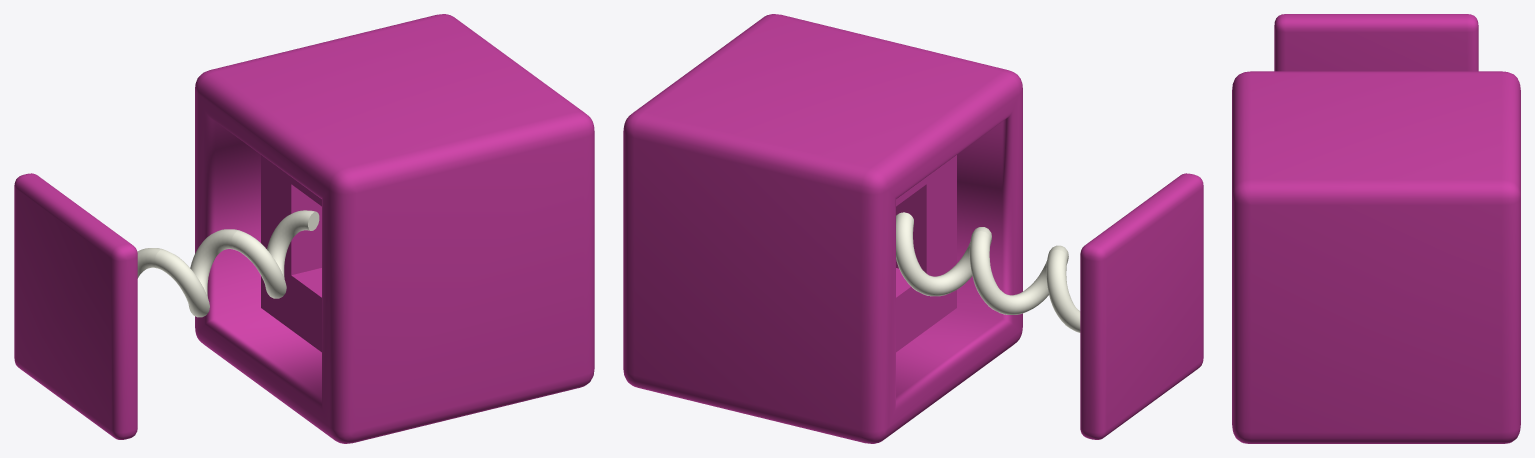
Rendered from SpringObstacle.fbx.
3 views of the same model, side by side, from view 1: azimuth 30°, elevation 25°; view 2: azimuth 150°, elevation 25°; view 3: azimuth 270°, elevation 25° (orthographic). The views are drawn at different scales.
Visible parts, largest first — view 1: FixedObstacle, MovingObstacle, Spring001; view 2: FixedObstacle, MovingObstacle, Spring001; view 3: FixedObstacle, MovingObstacle.
Boxes of the visible parts, <box> form: FixedObstacle: <box>195,14,594,443</box>; MovingObstacle: <box>14,173,137,439</box>; Spring001: <box>137,210,319,317</box>; FixedObstacle: <box>623,14,1022,443</box>; MovingObstacle: <box>1080,173,1203,439</box>; Spring001: <box>896,212,1080,332</box>; FixedObstacle: <box>1232,71,1520,443</box>; MovingObstacle: <box>1274,14,1478,71</box>.
Bounding box in the file's own units: 13.24 × 7.5 × 7.5.
